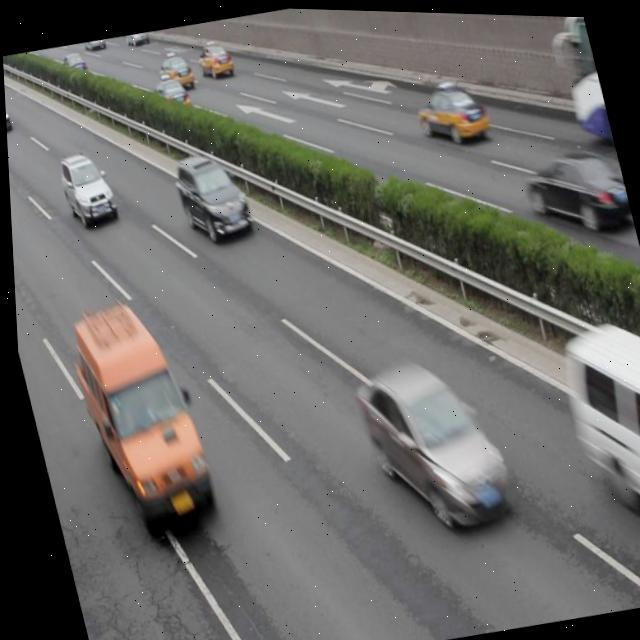car: (344, 342, 511, 535), (517, 136, 634, 242), (167, 147, 254, 245), (407, 72, 488, 146), (54, 149, 119, 230), (155, 49, 196, 92), (195, 40, 236, 82), (150, 71, 191, 112), (59, 49, 89, 79), (124, 31, 149, 48), (81, 38, 106, 51)
truck: (59, 297, 215, 531), (547, 306, 640, 566)
van: (548, 13, 612, 144)
